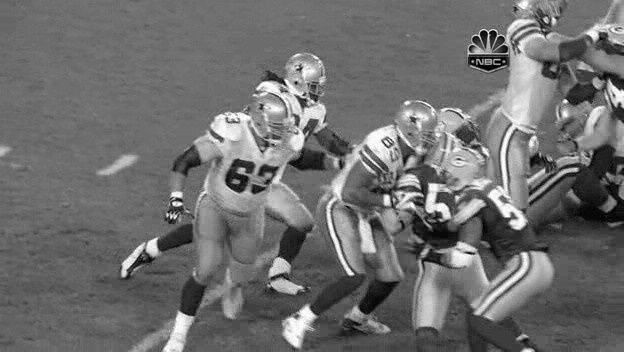person: (294, 53, 327, 100), (293, 53, 326, 100), (295, 53, 328, 100), (294, 52, 327, 99), (294, 54, 327, 101)
target_negative: (66, 209, 553, 248), (290, 268, 521, 348), (187, 313, 591, 340), (231, 315, 588, 337), (90, 327, 523, 332), (509, 232, 511, 248)
